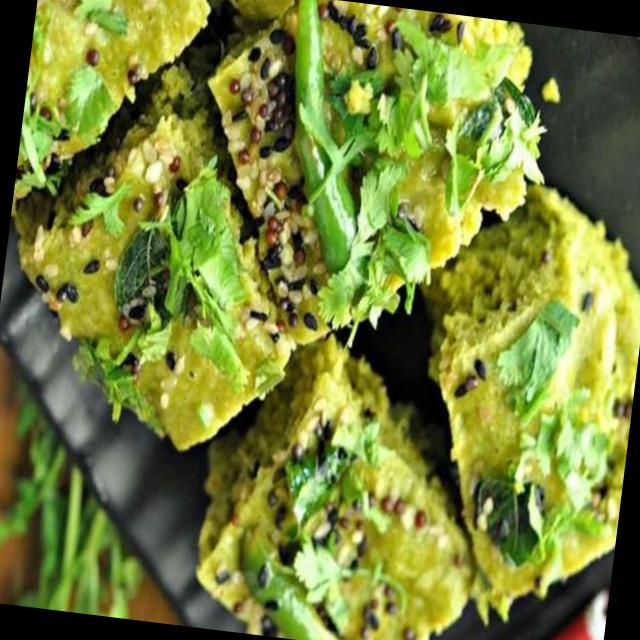dhokla: (13, 0, 640, 634)
